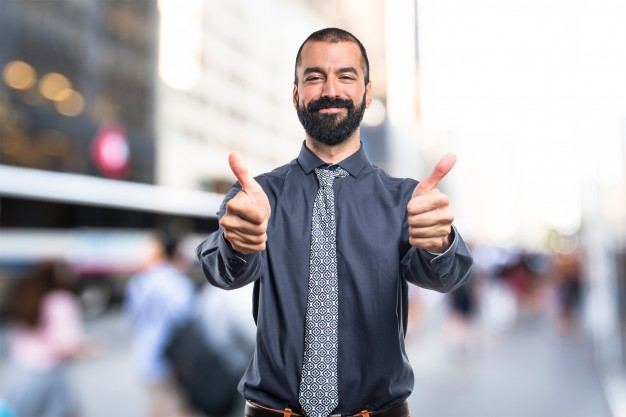thumbsup: (407, 152, 458, 248), (220, 151, 267, 254)
